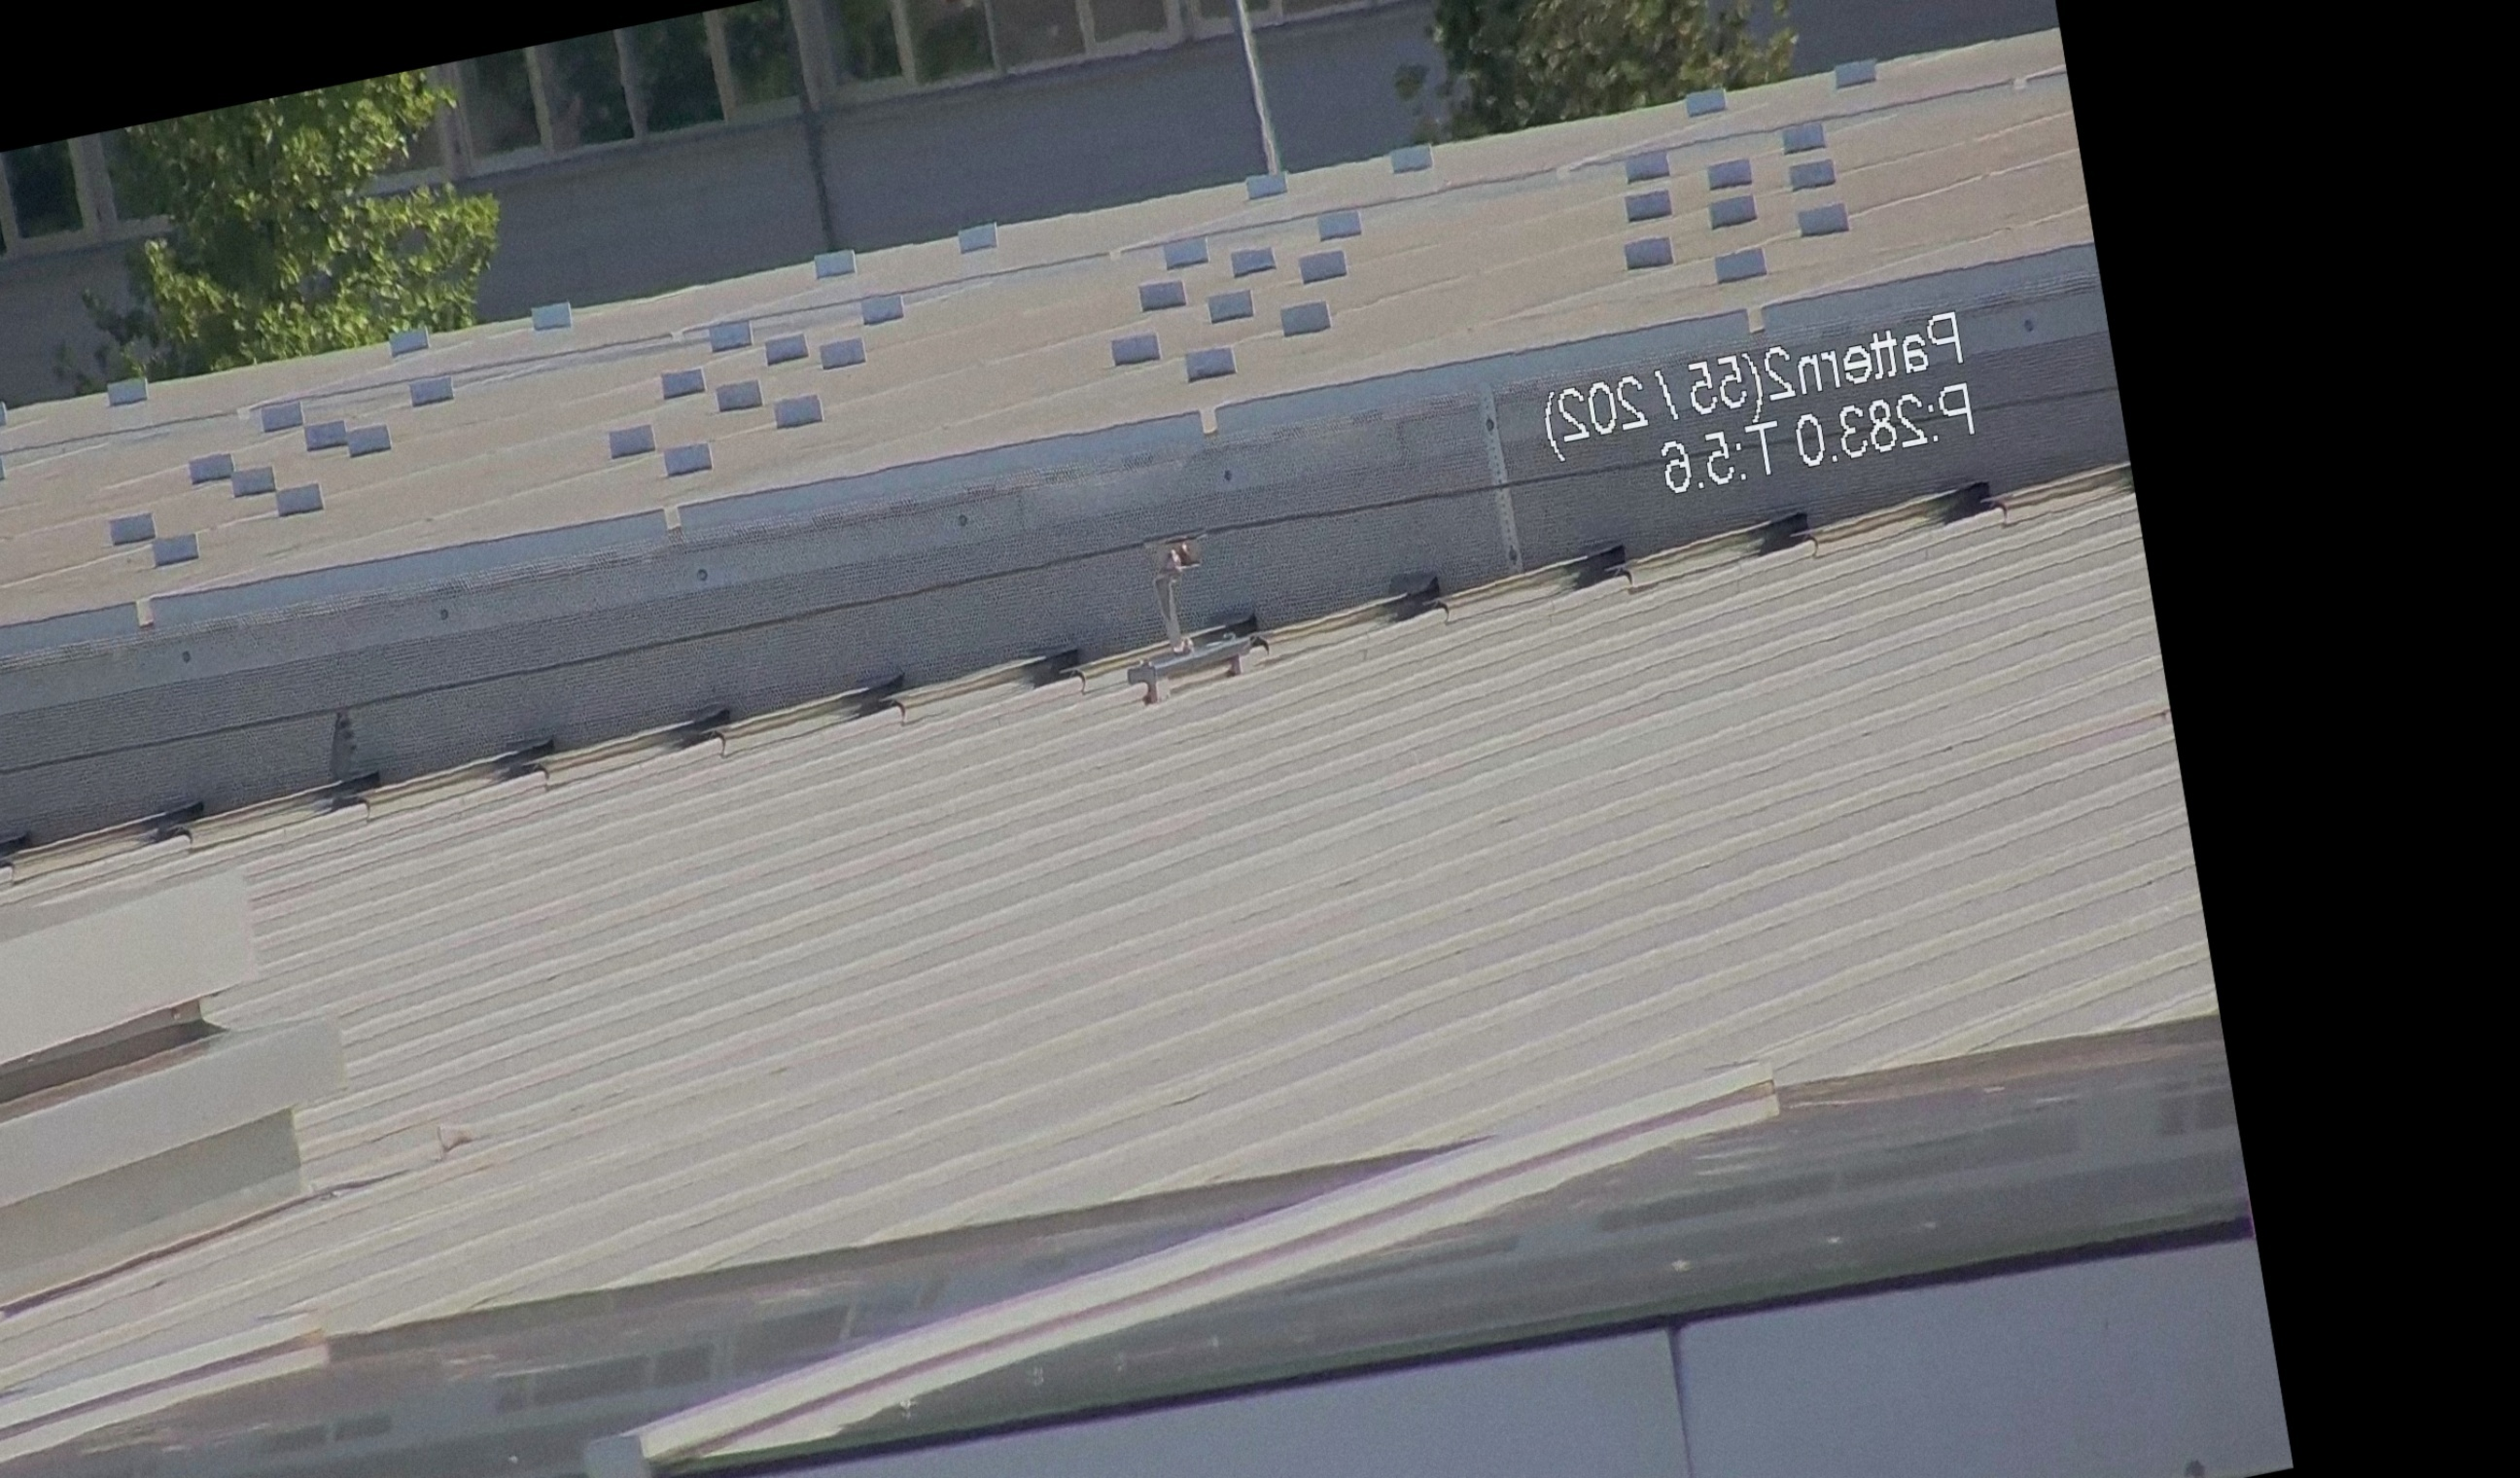Other: (281, 679, 378, 820)
